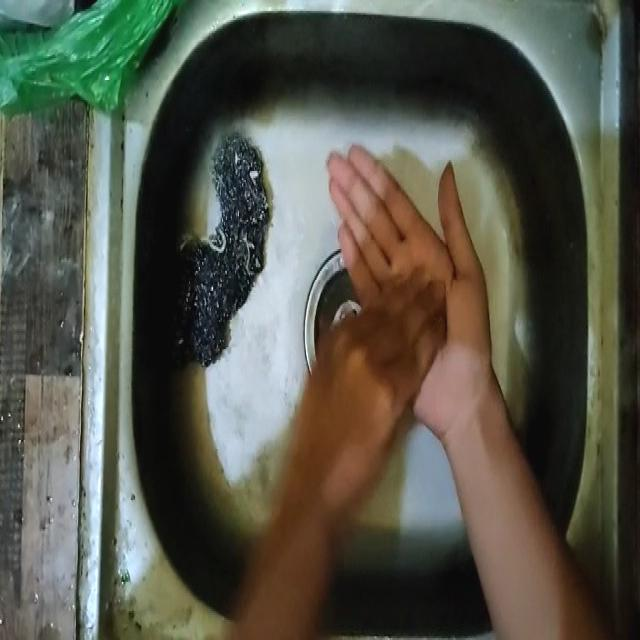step_6: (293, 107, 498, 476)
